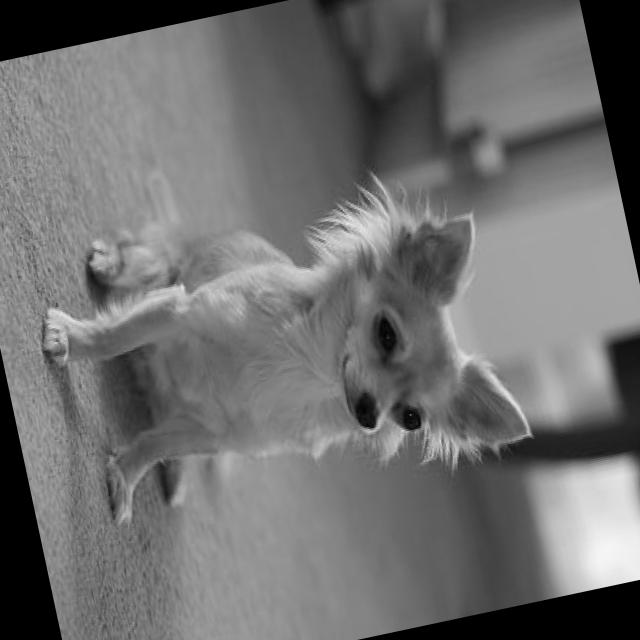sitting: (19, 158, 536, 548)
